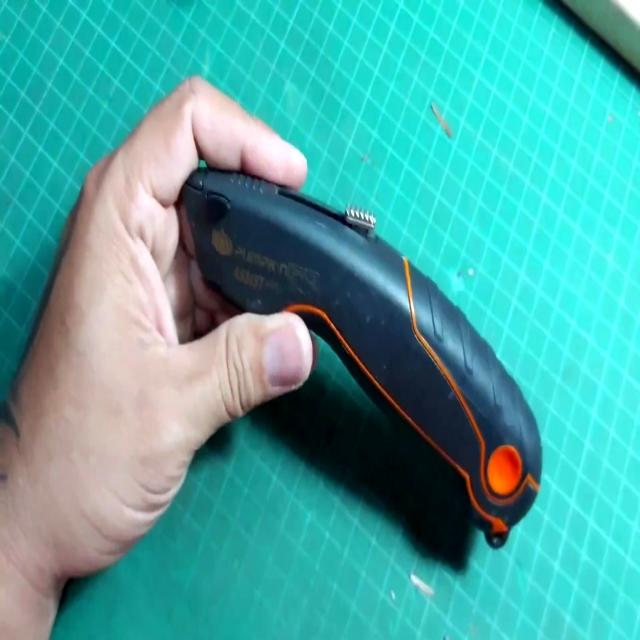cutter: (0, 41, 584, 640)
